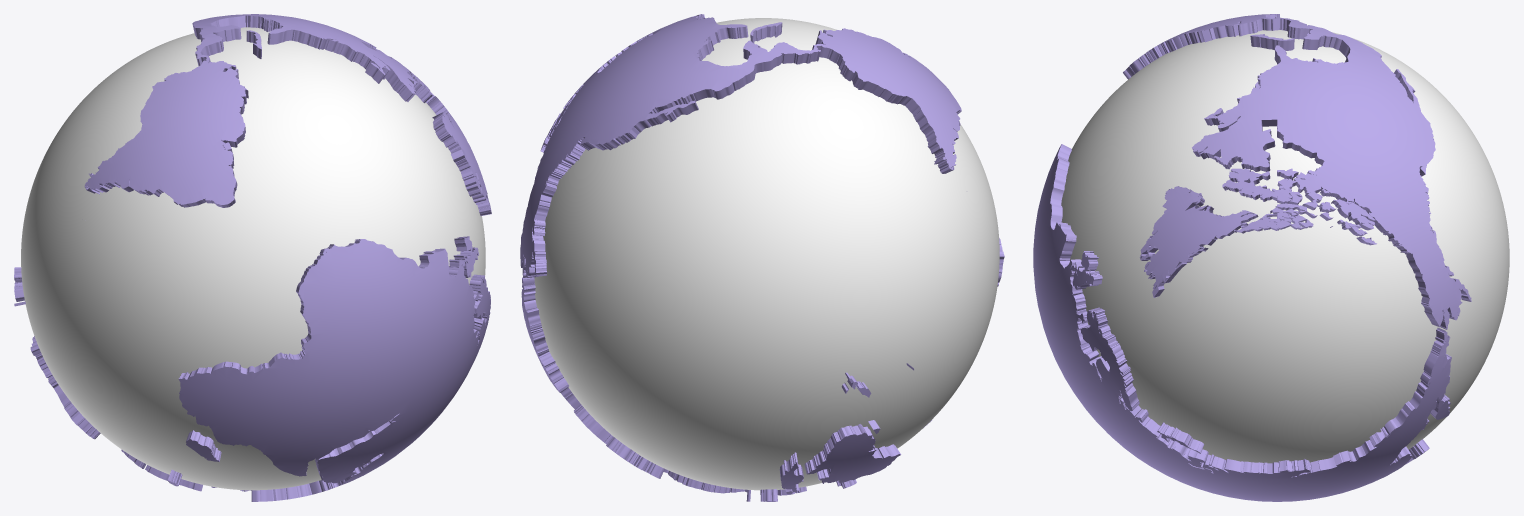
File: modelEarth.glb
3 views of the same model, side by side, from view 1: azimuth 30°, elevation 25°; view 2: azimuth 150°, elevation 25°; view 3: azimuth 270°, elevation 25° (orthographic).
Visible parts, largest first — view 1: Icosphere, map_new; view 2: Icosphere, map_new; view 3: Icosphere, map_new.
Boxes of the visible parts, x1,y1,x2,y2 form: Icosphere: (21,27,485,490); map_new: (14,14,491,501); Icosphere: (534,18,999,490); map_new: (520,14,1004,501); Icosphere: (1061,30,1509,463); map_new: (1033,14,1471,501).
Size of the model in its own units: 1.01 by 1.06 by 1.04.
